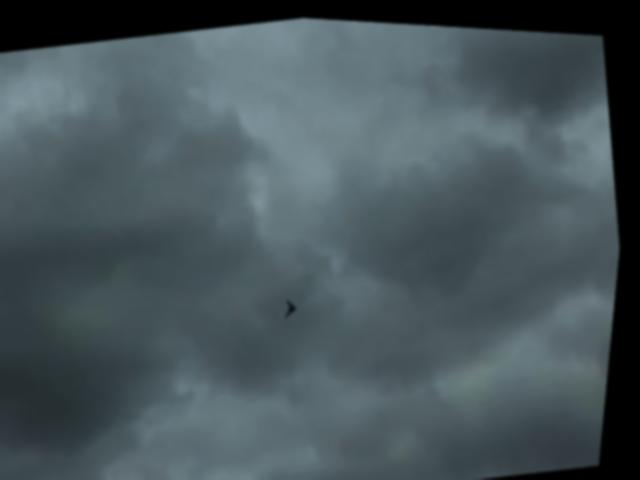flying wing: (286, 292, 305, 315)
